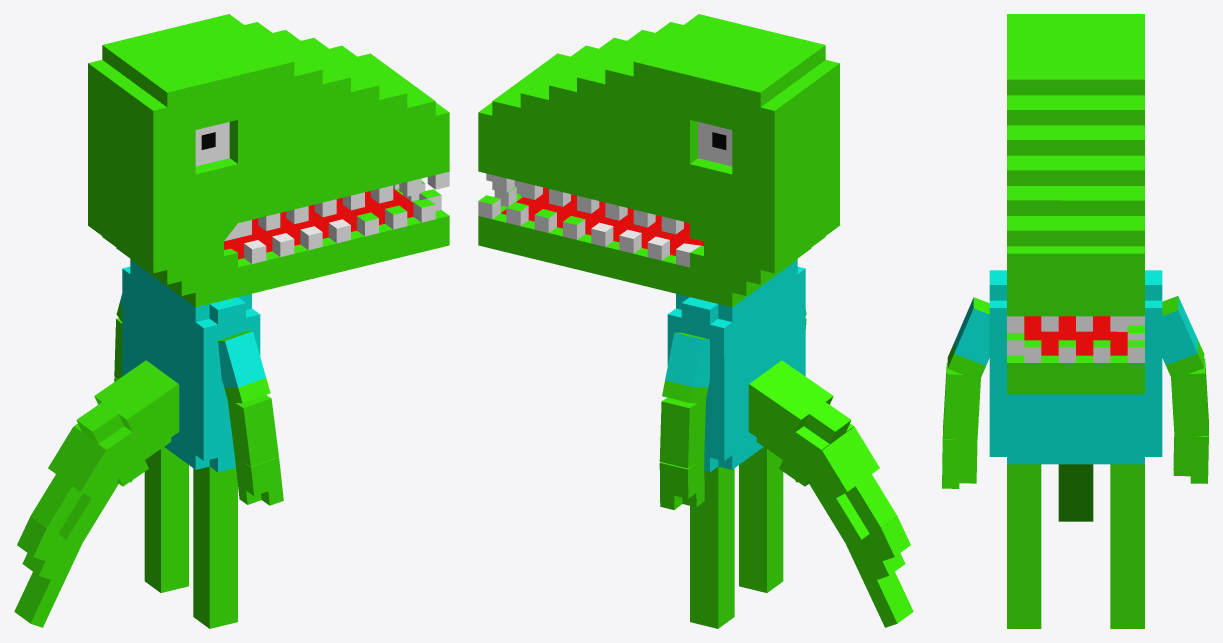
3 views of the same model, side by side, from view 1: azimuth 30°, elevation 25°; view 2: azimuth 150°, elevation 25°; view 3: azimuth 270°, elevation 25° (orthographic). The views are drawn at different scales.
Parts seen in each view (by area): view 1: JawTop, JawBottom, TailTop, TailBottom, BodyTop, BodyMiddle, JawMiddle, TailTip, RightLegBottom, LeftLegBottom, BodyBottom, RightLegTop (+4 smaller); view 2: JawTop, JawBottom, TailTop, TailBottom, BodyTop, BodyMiddle, JawMiddle, TailTip, LeftLegBottom, RightLegBottom, BodyBottom, LeftArmBottom (+4 smaller); view 3: JawTop, BodyBottom, JawBottom, BodyMiddle, LeftLegBottom, RightLegBottom, LeftLegTop, RightLegTop, BodyTop, LeftArmTop, RightArmBottom, RightArmTop (+4 smaller).
Part boxes in pixels (left/top/right/bottom): JawTop: left=88, top=14, right=449, bottom=259; JawBottom: left=130, top=181, right=449, bottom=307; TailTop: left=74, top=360, right=179, bottom=486; TailBottom: left=31, top=426, right=132, bottom=545; BodyTop: left=122, top=260, right=260, bottom=357; BodyMiddle: left=122, top=298, right=260, bottom=416; JawMiddle: left=88, top=196, right=223, bottom=295; TailTip: left=14, top=516, right=83, bottom=627; RightLegBottom: left=193, top=528, right=237, bottom=628; LeftLegBottom: left=144, top=493, right=188, bottom=592; BodyBottom: left=122, top=357, right=235, bottom=472; RightLegTop: left=193, top=466, right=237, bottom=540; JawTop: left=478, top=14, right=839, bottom=259; JawBottom: left=478, top=180, right=797, bottom=307; TailTop: left=748, top=360, right=853, bottom=486; TailBottom: left=788, top=426, right=896, bottom=545; BodyTop: left=667, top=260, right=805, bottom=357; BodyMiddle: left=667, top=298, right=805, bottom=416; JawMiddle: left=704, top=196, right=839, bottom=295; TailTip: left=846, top=516, right=913, bottom=627; LeftLegBottom: left=690, top=528, right=734, bottom=628; RightLegBottom: left=739, top=493, right=783, bottom=592; BodyBottom: left=704, top=357, right=805, bottom=472; LeftArmBottom: left=659, top=397, right=705, bottom=468; JawTop: left=1007, top=14, right=1144, bottom=331; BodyBottom: left=989, top=401, right=1162, bottom=464; JawBottom: left=1007, top=316, right=1144, bottom=394; BodyMiddle: left=989, top=339, right=1162, bottom=401; LeftLegBottom: left=1110, top=535, right=1144, bottom=628; RightLegBottom: left=1007, top=535, right=1041, bottom=628; LeftLegTop: left=1110, top=464, right=1144, bottom=535; RightLegTop: left=1007, top=464, right=1041, bottom=535; BodyTop: left=989, top=270, right=1162, bottom=339; LeftArmTop: left=1162, top=296, right=1204, bottom=379; RightArmBottom: left=943, top=363, right=980, bottom=440; RightArmTop: left=947, top=297, right=989, bottom=377.
Bounding box in the file's own units: 27.97 × 37 × 15.48.
